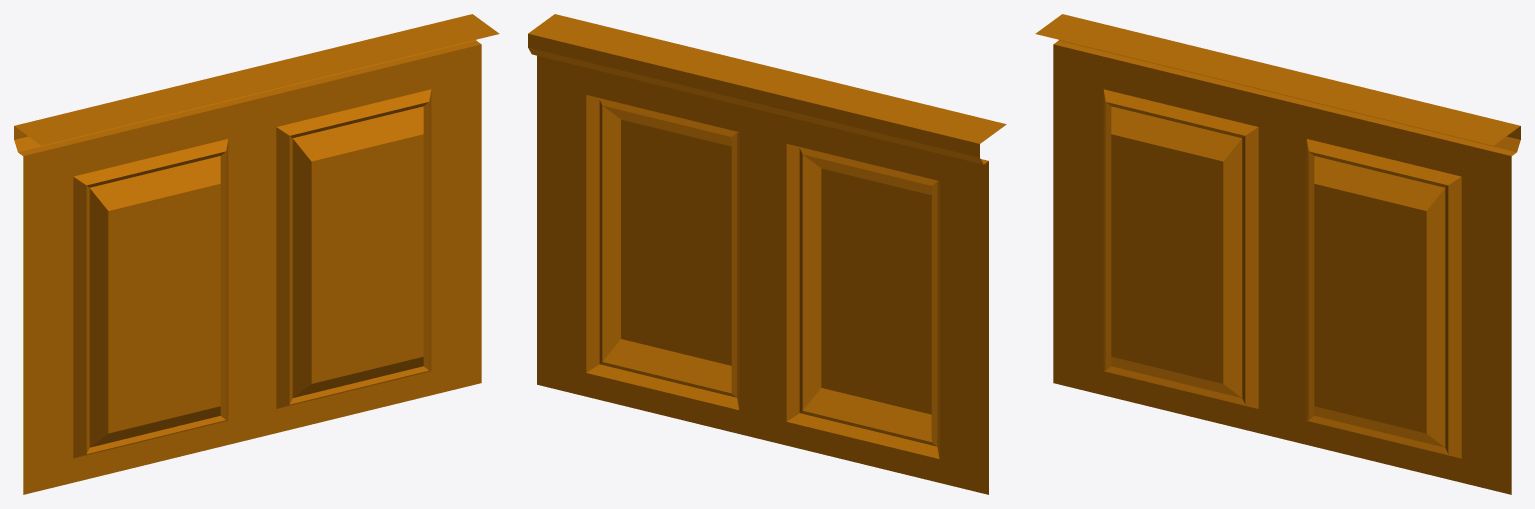
Rendered from wallpiece.glb.
3 renders of one model, left to right at view 1: azimuth 30°, elevation 25°; view 2: azimuth 150°, elevation 25°; view 3: azimuth 330°, elevation 25°, orthographic.
Parts seen in each view (by area): view 1: Wall Piece; view 2: Wall Piece; view 3: Wall Piece.
Boxes of the visible parts, x1,y1,x2,y2 form: Wall Piece: (14,14,499,494); Wall Piece: (528,14,1006,494); Wall Piece: (1035,14,1520,494).
Size of the model in its own units: 4 by 3.02 by 0.4117.
